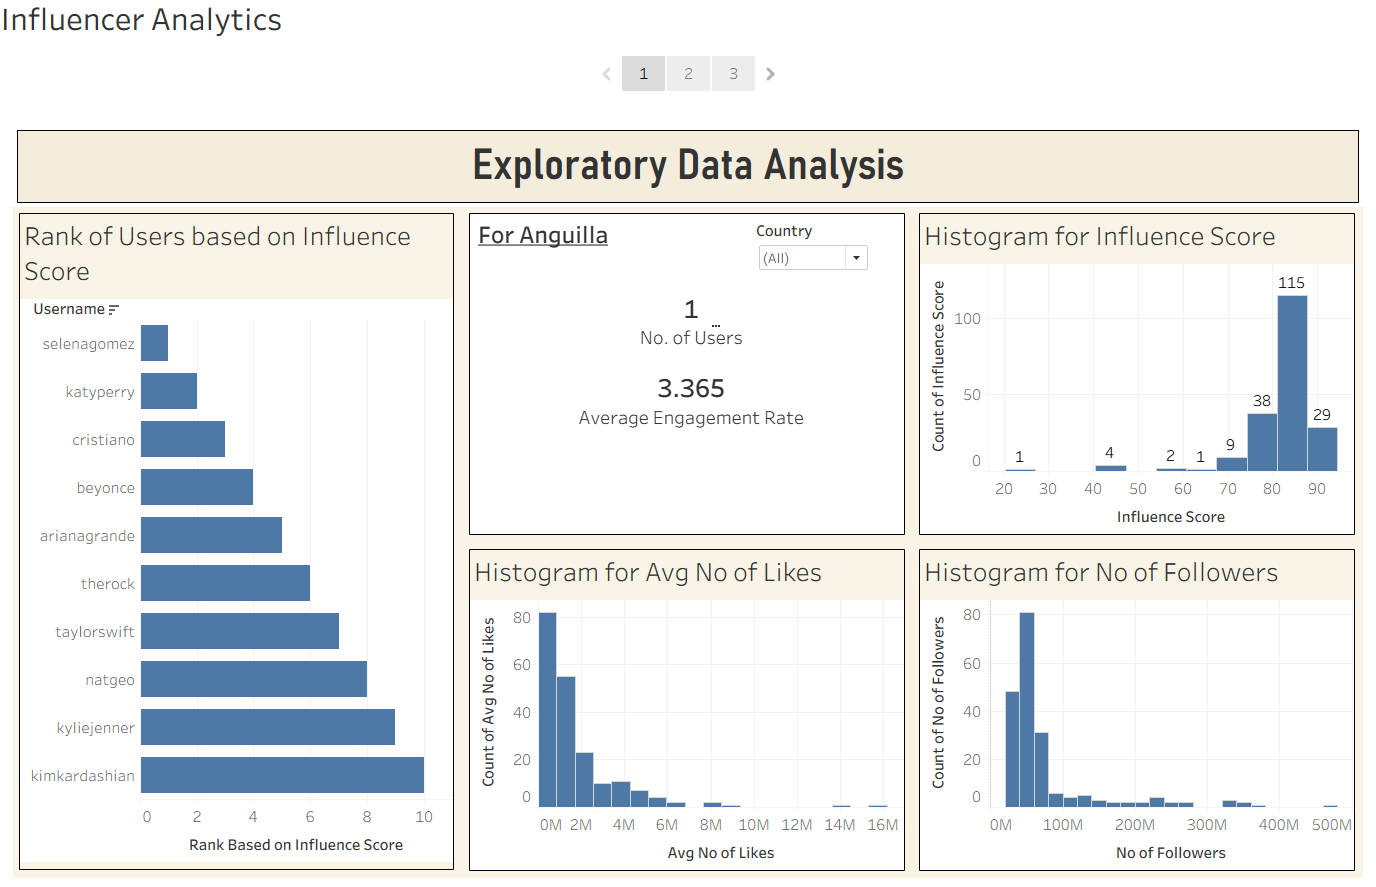

What the dashboard file says about the page in this screenshot:
{"tool":"tableau","page":{"name":"EDA","canvas":[1366,768],"ordinal":1},"visuals":[{"type":"title","box":[8,8,1350,81]},{"type":"worksheet","title":"Rank of Users based on Influence Score","mark":"Automatic","rows":["Username"],"box":[14,95,435,657]},{"type":"worksheet","title":"No of Users and Avg Engagement rate per country","mark":"Automatic","box":[464,95,436,322]},{"type":"worksheet","title":"Histogram for Influence Score","mark":"Automatic","rows":["Influence_Score"],"cols":["Influence Score (bin)"],"box":[914,95,436,322]},{"type":"filter","title":"No of Users and Avg Engagement rate per country","param":"[federated.1uggo2g132cp5b18gn1sc04it2e9].[none:Country_of_User:nk]","box":[751,102,115,61]},{"type":"worksheet","title":"Histogram for Avg No of Likes","mark":"Automatic","rows":["Avg_No_of_Likes"],"cols":["Avg No of Likes (bin)"],"box":[464,431,436,322]},{"type":"worksheet","title":"Histogram for No of Followers","mark":"Automatic","rows":["No_of_Followers"],"cols":["No of Followers (bin)"],"box":[914,431,436,322]}]}

Visuals, with their boxes in screenshot pixels (x1, y1, x2, y2):
title: rect(15, 126, 1356, 207)
"Rank of Users based on Influence Score" worksheet: rect(21, 213, 453, 865)
"No of Users and Avg Engagement rate per country" worksheet: rect(468, 213, 901, 532)
"Histogram for Influence Score" worksheet: rect(915, 213, 1348, 532)
"No of Users and Avg Engagement rate per country" filter: rect(753, 220, 867, 280)
"Histogram for Avg No of Likes" worksheet: rect(468, 546, 901, 866)
"Histogram for No of Followers" worksheet: rect(915, 546, 1348, 866)
